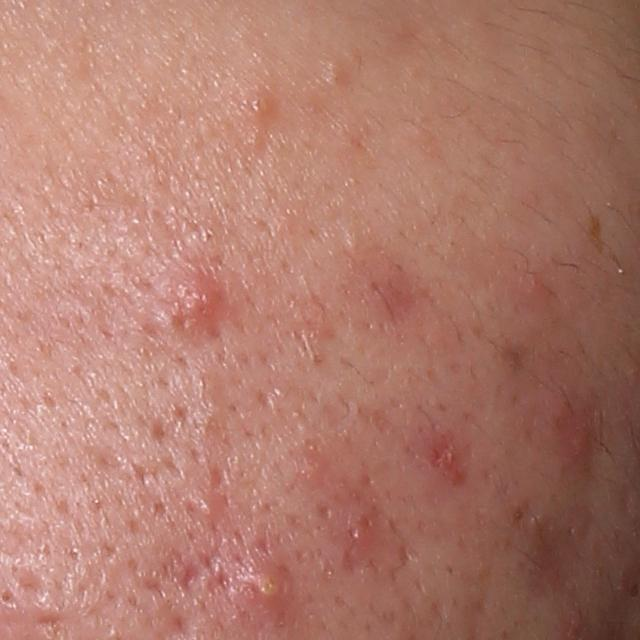atrophic_scar: (155, 524, 278, 601)
comedo: (240, 88, 275, 121), (323, 62, 346, 86), (1, 585, 20, 612)
melasma: (584, 208, 606, 251)
papule: (328, 486, 393, 562), (161, 264, 233, 332), (563, 415, 602, 458), (192, 490, 226, 521)
pustule: (252, 557, 299, 606)
